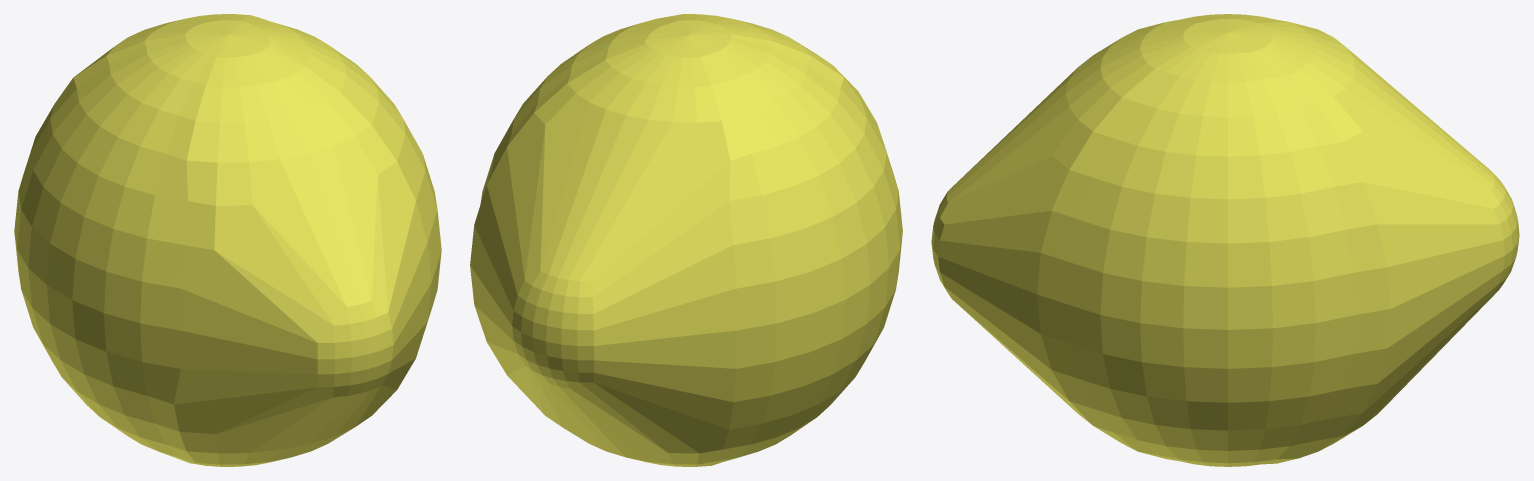
Rendered from limao.fbx.
3 views of the same model, side by side, from view 1: azimuth 30°, elevation 25°; view 2: azimuth 150°, elevation 25°; view 3: azimuth 270°, elevation 25° (orthographic).
Visible parts, largest first — view 1: Sphere; view 2: Sphere; view 3: Sphere.
Part boxes in pixels (x1,y1,x2,y2): Sphere: [14, 14, 441, 466]; Sphere: [470, 14, 902, 466]; Sphere: [931, 14, 1519, 466].
Bounding box in the file's own units: 185 × 200 × 256.
